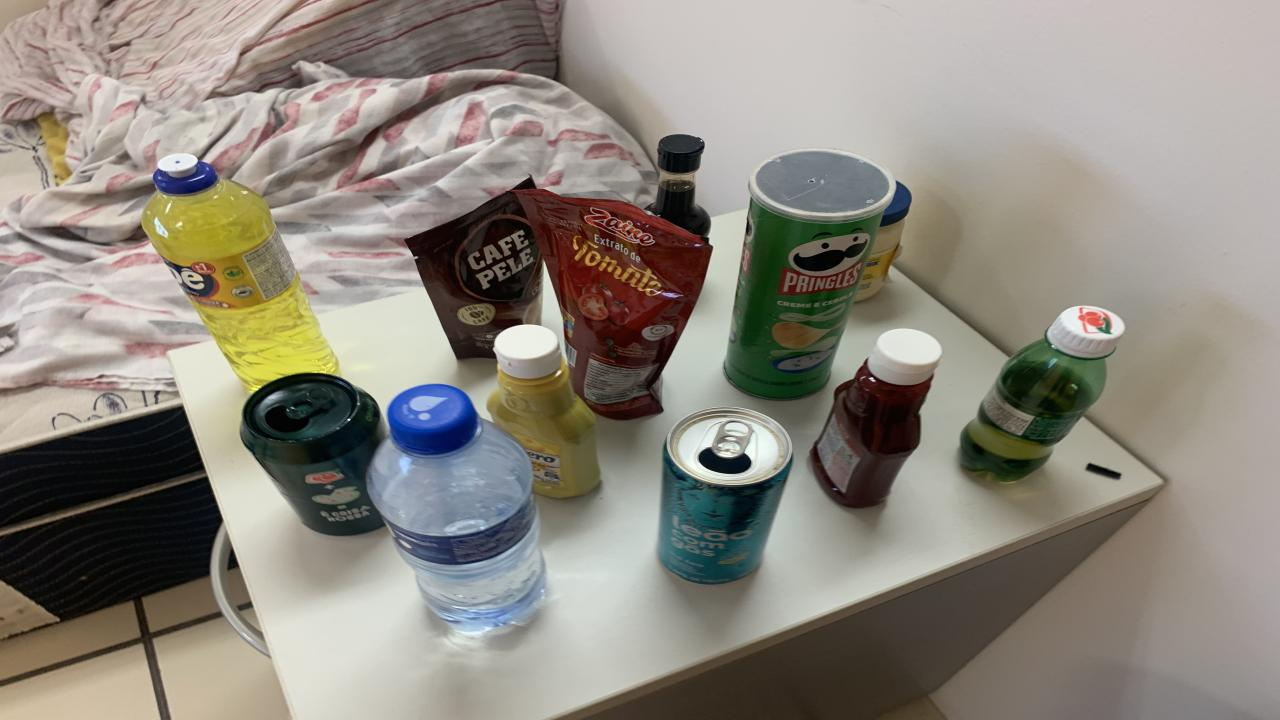Coffee-Pantry_Items: (405, 178, 542, 358)
Detergent-Cleanup_Items: (142, 154, 340, 392)
English_Sauce-Pantry_Items: (645, 135, 710, 242)
Guarana-Drinks: (960, 306, 1125, 482)
Guarana_Can-Drinks: (240, 373, 385, 536)
Ketchup-Pantry_Items: (810, 328, 942, 506)
Mayonnaise-Pantry_Items: (855, 182, 912, 302)
Mustard-Pantry_Items: (488, 324, 600, 497)
Pringles-Snacks: (725, 150, 895, 399)
Tea-Drinks: (658, 407, 792, 583)
Tomato_Sauce-Pantry_Items: (515, 189, 712, 420)
Water_Bottle-Drinks: (368, 384, 545, 634)
